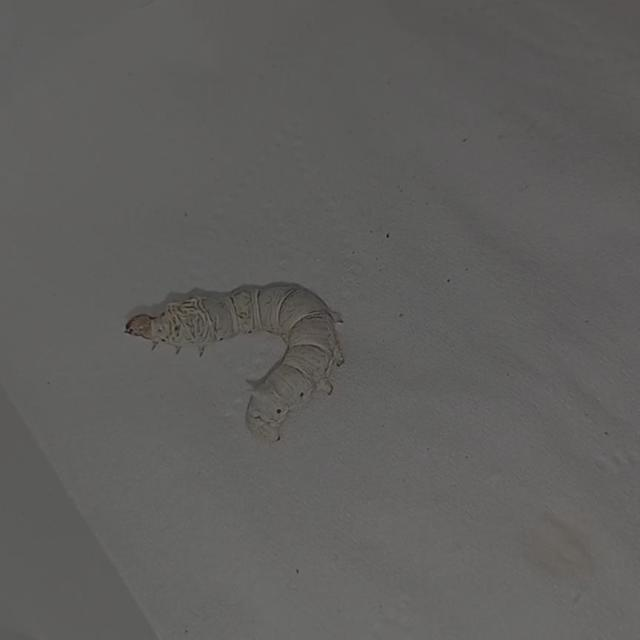Healthy: (98, 248, 417, 460)
